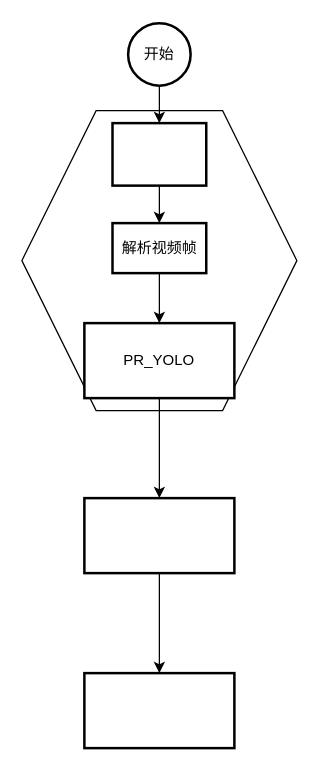
This 319x770 diagram has some shape labels left out. Here are the shapes that lost their labels. From the top down, the centre of each, then its label:
(x=159, y=153): 输入视频
(x=158, y=535): 解析输出张量
